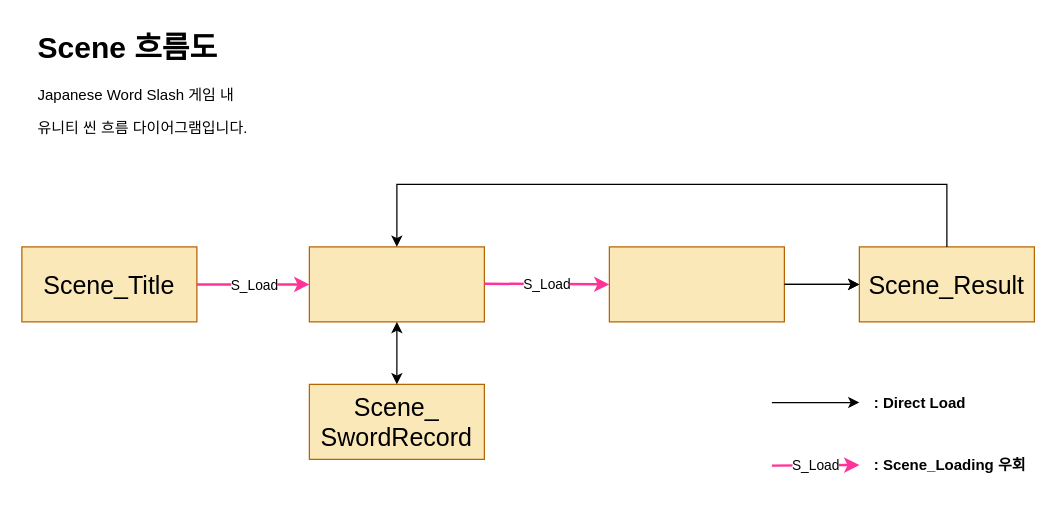
Image size: 1056x505. Some labels were removed from this diagram. Each missing label, with the centre of its shape:
Scene_InGame: the point at 696,284
Scene_Lobby: the point at 396,284
